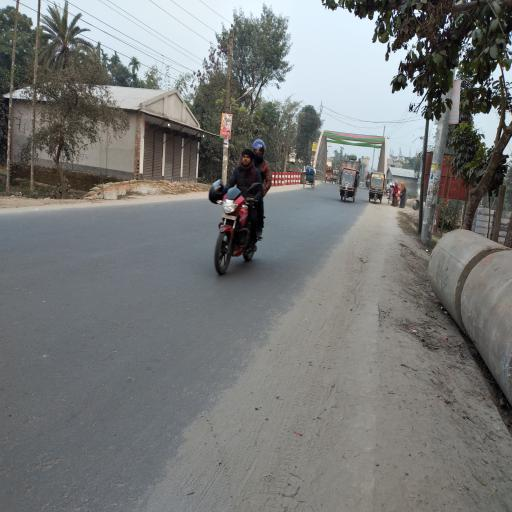auto rickshaw: (340, 168, 360, 204), (369, 172, 386, 206), (360, 182, 365, 189)
bicycle: (388, 188, 395, 206)
motorbike: (209, 173, 265, 279), (366, 177, 371, 191)
rickshaw: (303, 168, 316, 192), (326, 167, 334, 185), (333, 169, 339, 185)
